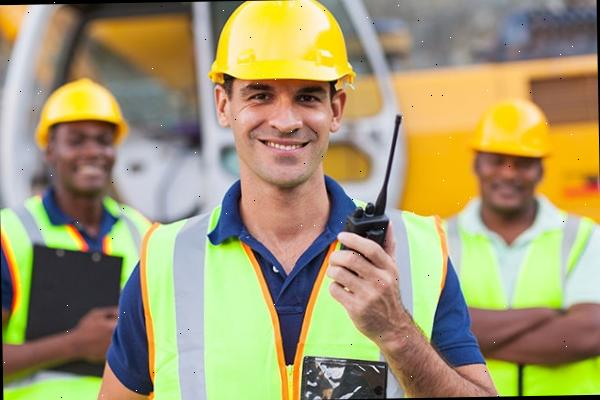helmet: (201, 0, 359, 86), (28, 76, 132, 147), (467, 95, 556, 162)
wear: (133, 206, 474, 400), (441, 210, 600, 397), (0, 216, 147, 400)
